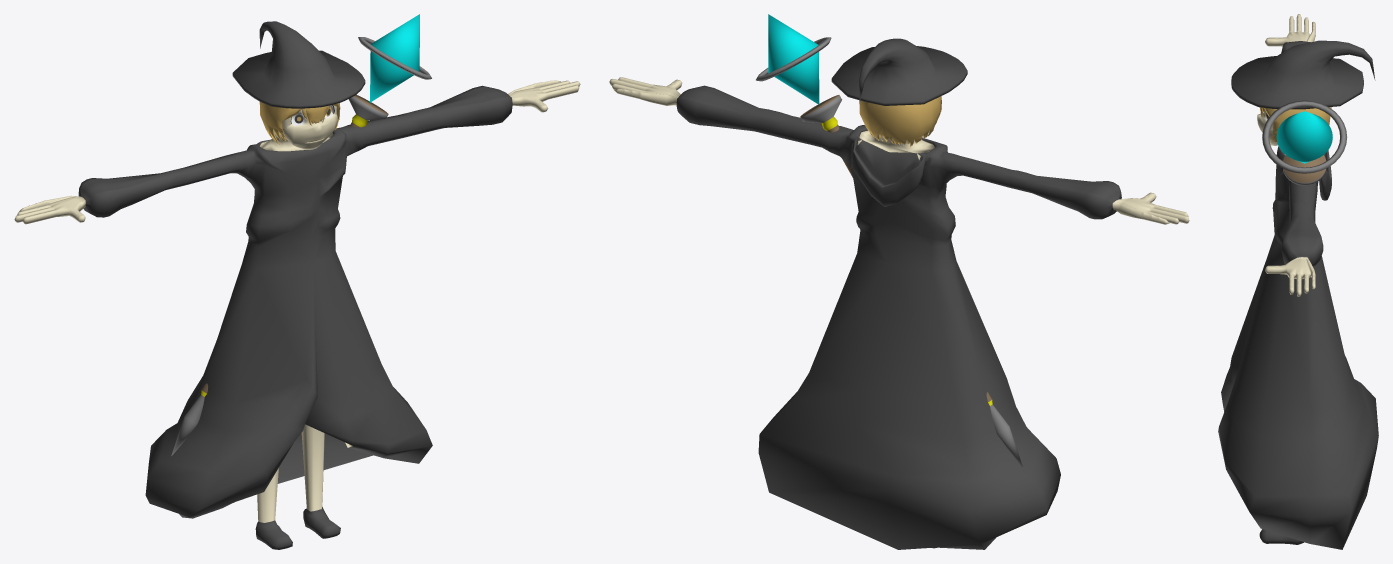
The model's file is 村人３モデル.fbx.
3 renders of one model, left to right at view 1: azimuth 30°, elevation 25°; view 2: azimuth 150°, elevation 25°; view 3: azimuth 270°, elevation 25°, orthographic. The views are drawn at different scales.
Parts seen in each view (by area): view 1: 平面.011; view 2: 平面.011; view 3: 平面.011.
Part boxes in pixels (left/top/right/bottom): 平面.011: left=14, top=14, right=580, bottom=549; 平面.011: left=609, top=14, right=1189, bottom=549; 平面.011: left=1218, top=14, right=1378, bottom=549.
Size of the model in its own units: 299 by 247 by 73.4.
